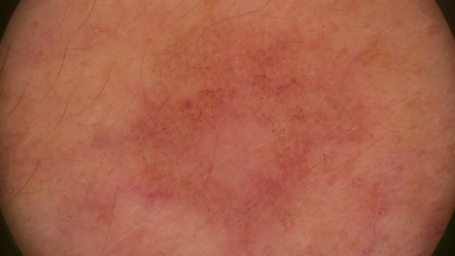melanoma: (138, 79, 358, 228)
